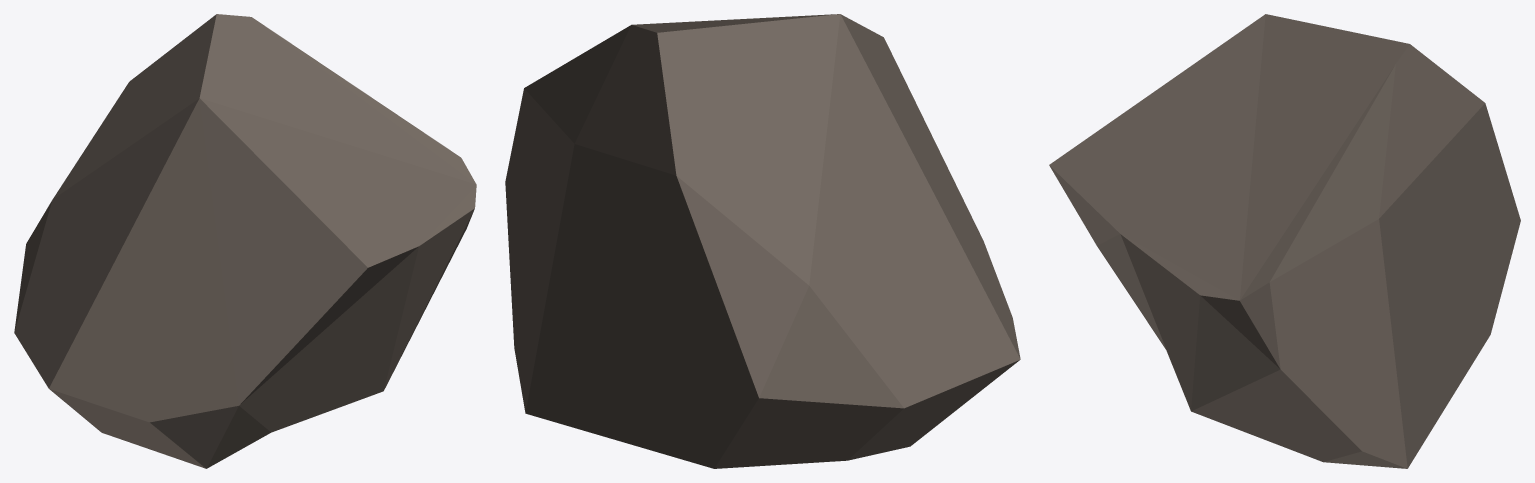
File: Rock.016.fbx
3 views of the same model, side by side, from view 1: azimuth 30°, elevation 25°; view 2: azimuth 150°, elevation 25°; view 3: azimuth 270°, elevation 25° (orthographic). The views are drawn at different scales.
Parts seen in each view (by area): view 1: Rock.016; view 2: Rock.016; view 3: Rock.016.
Boxes of the visible parts, x1,y1,x2,y2 form: Rock.016: [14, 14, 476, 468]; Rock.016: [505, 14, 1020, 468]; Rock.016: [1049, 14, 1520, 468].
Bounding box in the file's own units: 5.89 × 4.83 × 5.36.
